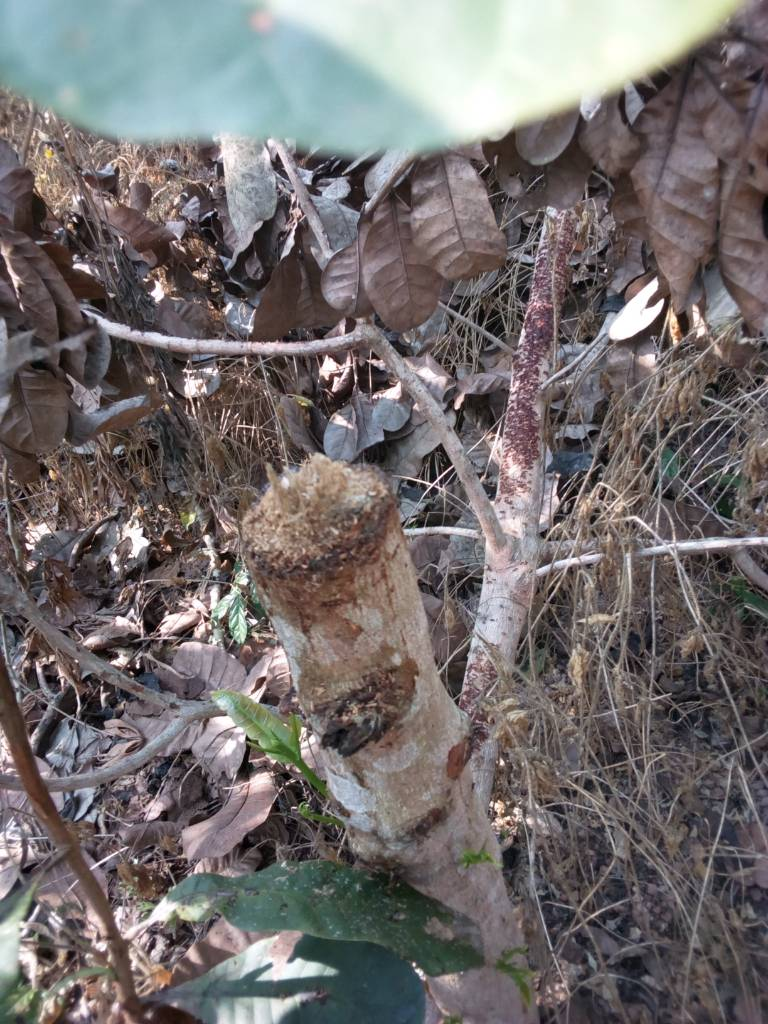Analepse trifasciata: (225, 439, 433, 592)
